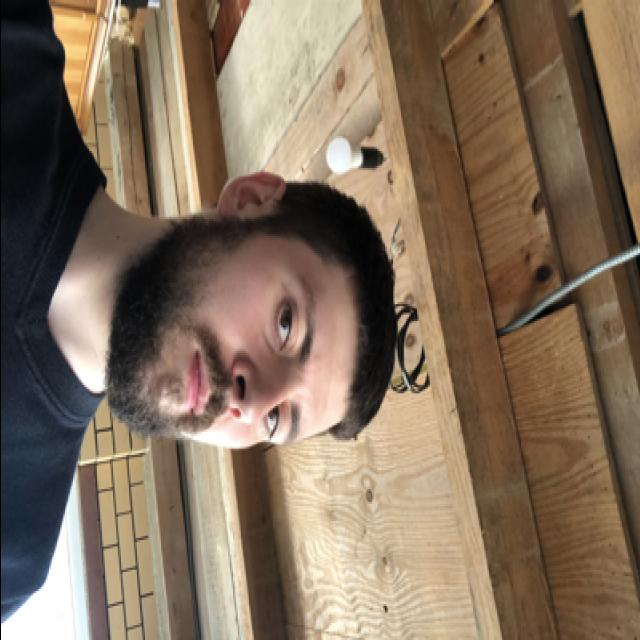no_mask: (108, 251, 322, 451)
